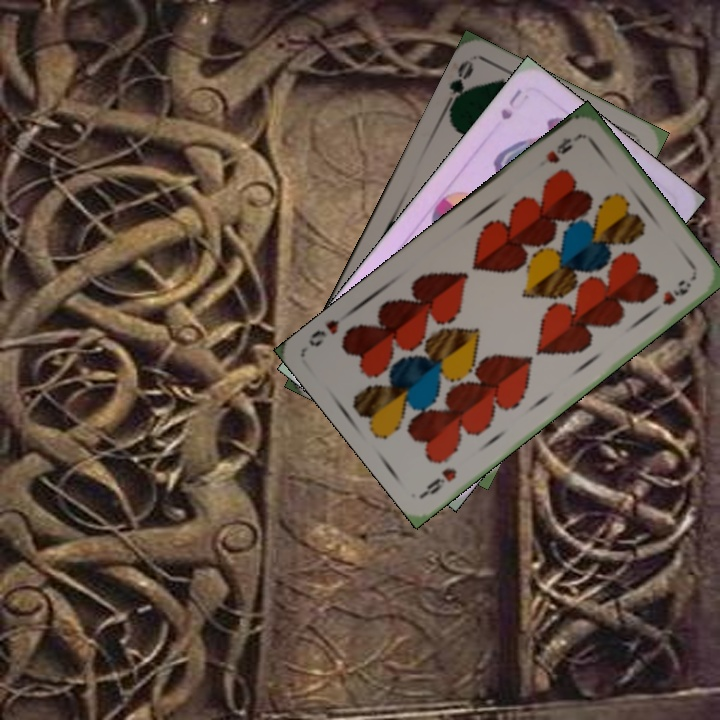GO: (439, 57, 476, 116)
H9: (542, 131, 583, 167), (419, 463, 460, 498)
SU: (496, 85, 532, 123)
